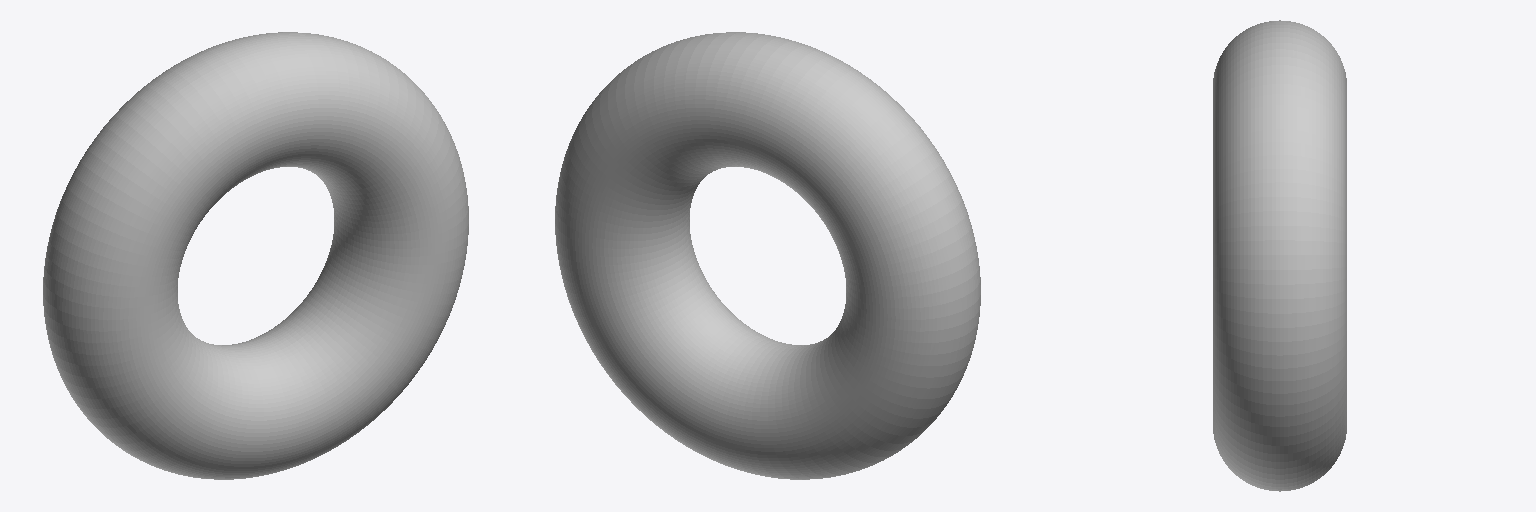
Rendered from torus_triangulated.obj.
3 views of the same model, side by side, from view 1: azimuth 30°, elevation 25°; view 2: azimuth 150°, elevation 25°; view 3: azimuth 270°, elevation 25° (orthographic).
Visible parts, largest first — view 1: Object.1; view 2: Object.1; view 3: Object.1.
Part boxes in pixels (x1,y1,x2,y2): Object.1: (43,32,468,479); Object.1: (555,32,980,479); Object.1: (1213,20,1346,491).
Bounding box in the file's own units: 100 × 100 × 28.57.